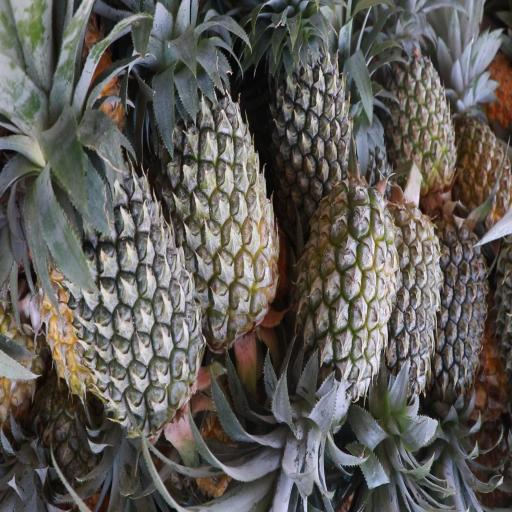------------------------------: (163, 82, 281, 332), (299, 186, 397, 399), (385, 44, 455, 199)
